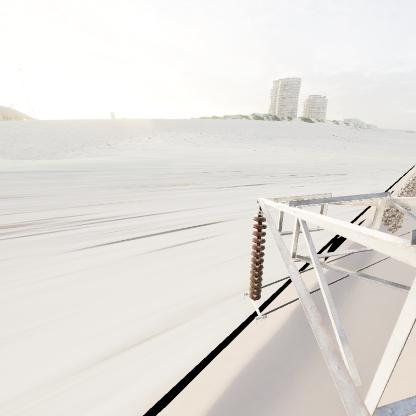insulator: (248, 214, 268, 306)
